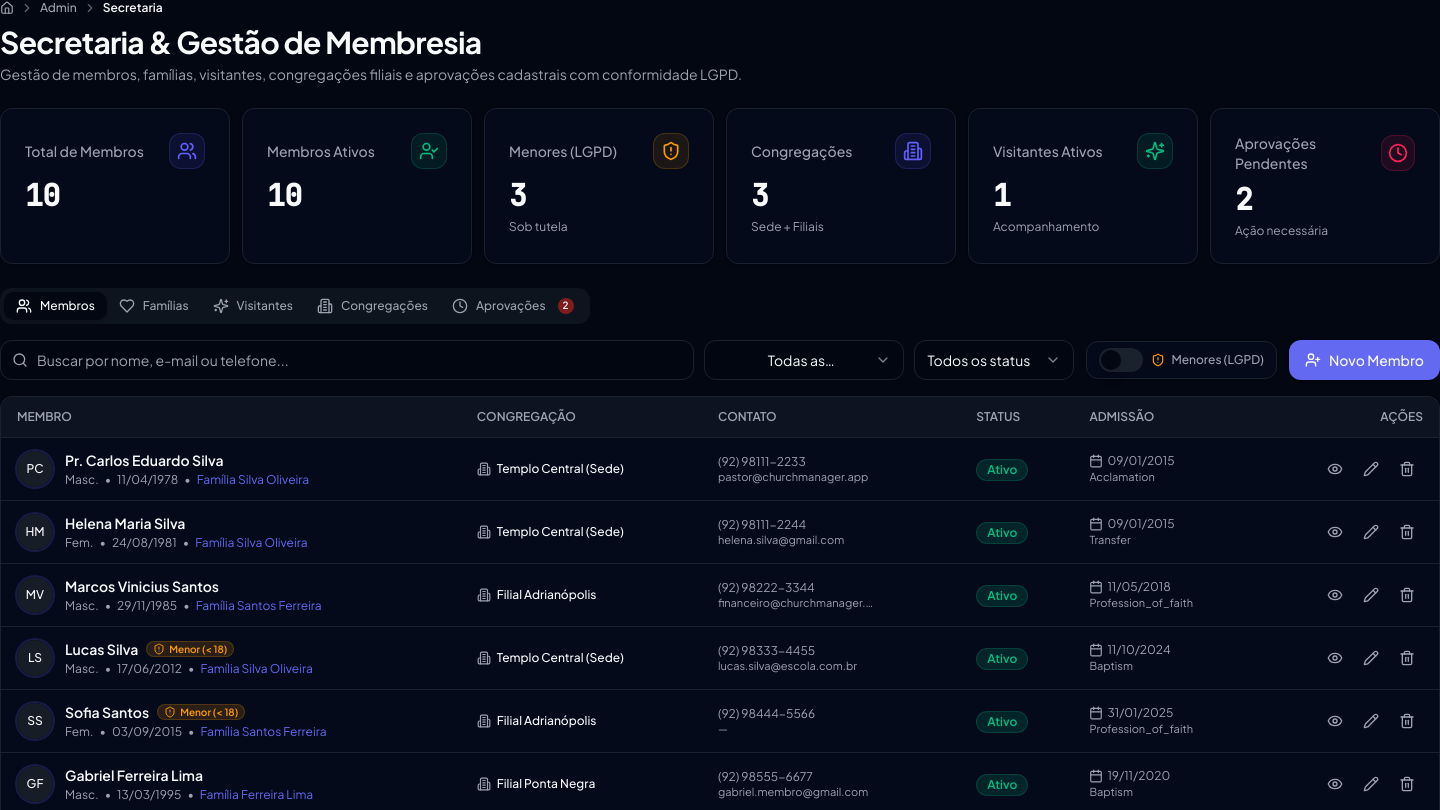
Test: Etapa 04 — Secretaria & Gestão de Membresia › deve exibir aviso reativo de menor de idade e campos de responsável no formulário ao digitar data de nascimento < 18 anos
Note: Abre modal de novo membro
Click the button "Novo Membro" at (1364, 360), box [1289, 340, 1439, 380]
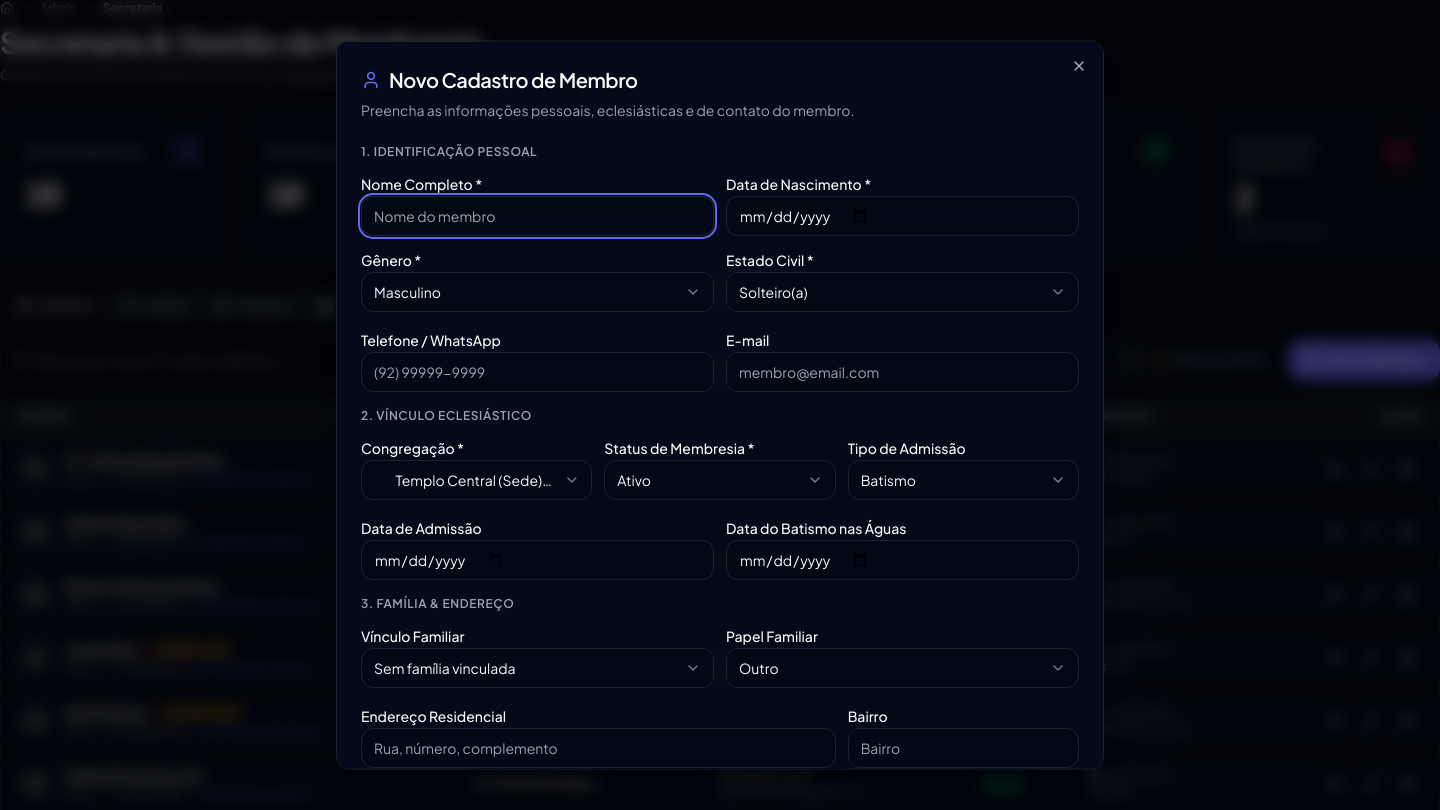
expect the heading "Novo Cadastro de Membro" is shown: met, box [361, 66, 638, 92]
Note: Digita data de nascimento que torna a pessoa menor de idade (ex: 2012-05-10)
Type "2012-05-10" into the date field labelled "Data de Nascimento *" at (902, 216), box [726, 196, 1079, 236]
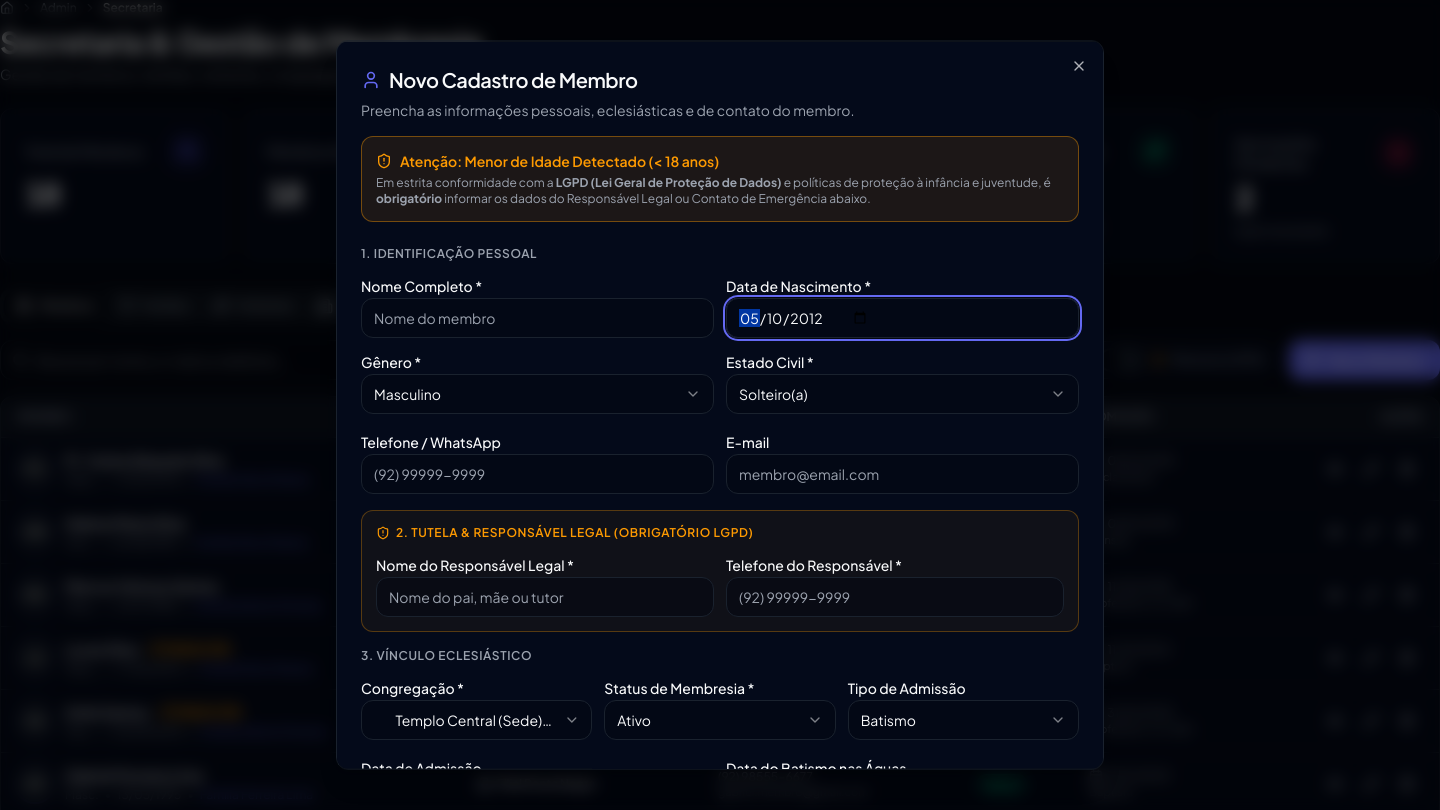
expect the element with test id "lgpd-minor-warning" is shown: met, box [361, 136, 1079, 222]
expect the field labelled "Nome do Responsável Legal *" is shown: met, box [376, 576, 714, 616]
